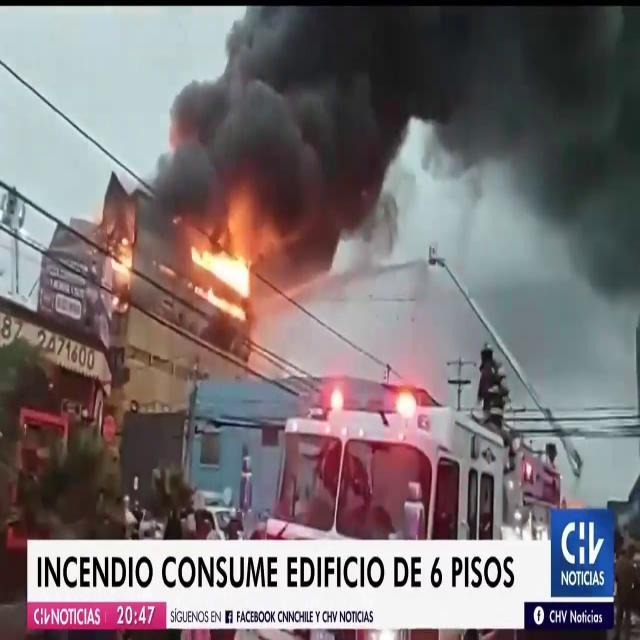Fire: (187, 189, 271, 319)
Smoke: (135, 2, 640, 242)
